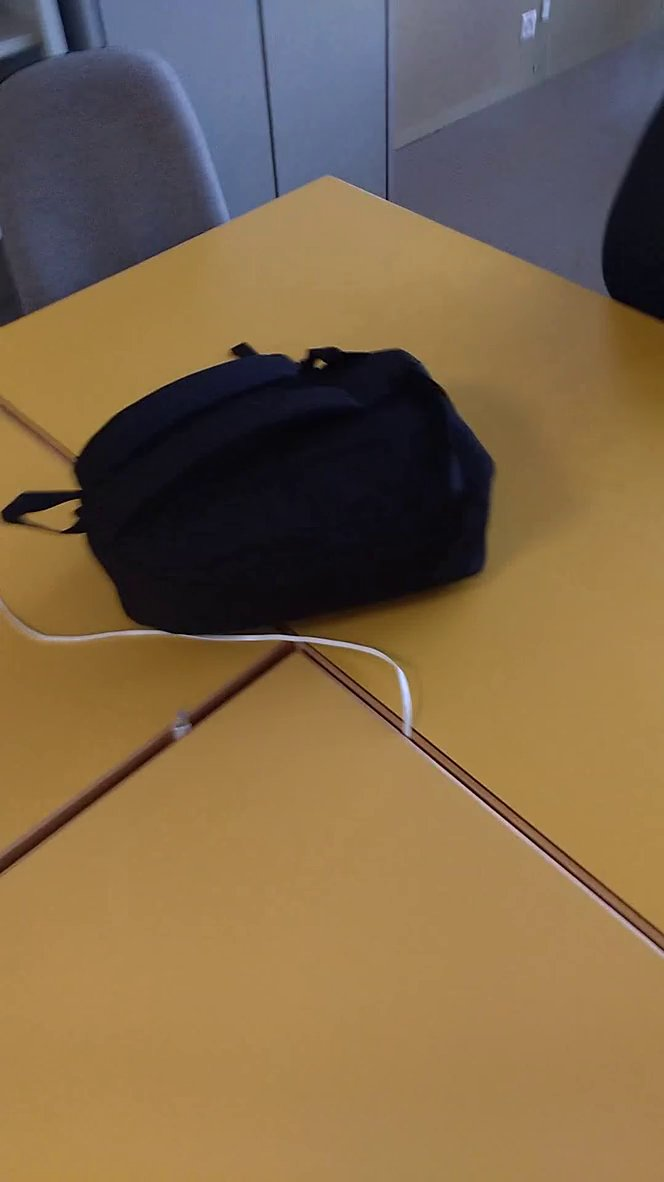bag: (2, 331, 509, 657)
chair: (2, 41, 246, 324)
